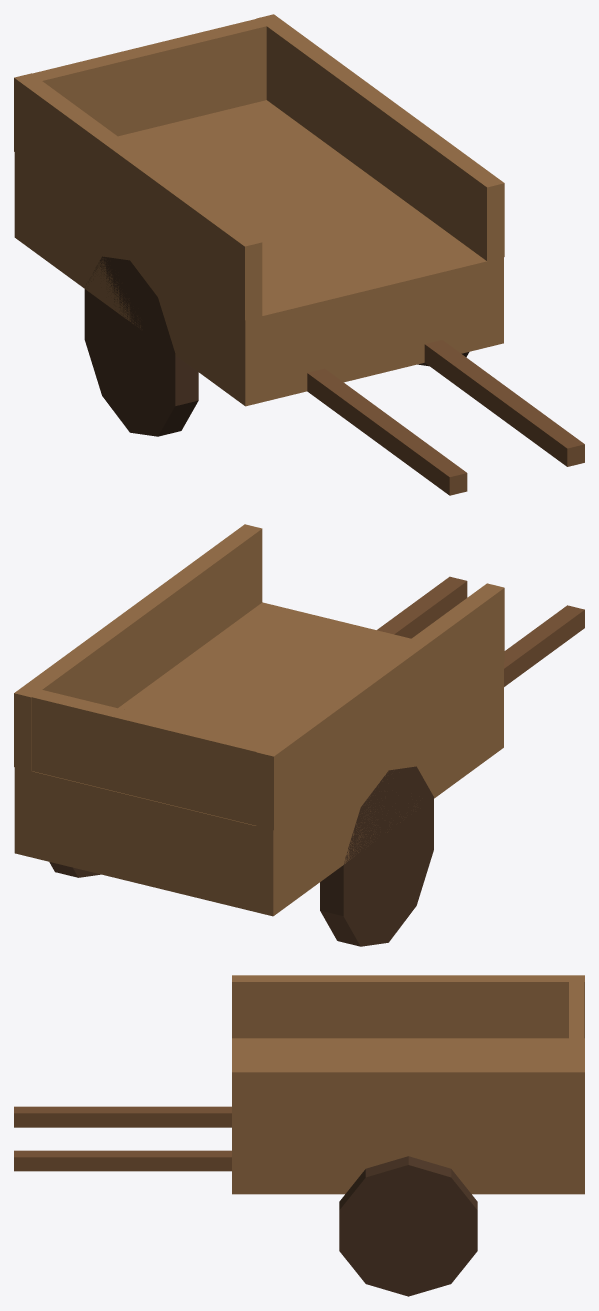
File: cart.glb
3 renders of one model, top to bottom at view 1: azimuth 30°, elevation 25°; view 2: azimuth 150°, elevation 25°; view 3: azimuth 270°, elevation 25°, orthographic. The views are drawn at different scales.
Parts seen in each view (by area): view 1: cart; view 2: cart; view 3: cart.
Part boxes in pixels (bbox=[...]): cart: bbox=[14, 14, 584, 495]; cart: bbox=[14, 524, 584, 946]; cart: bbox=[14, 975, 584, 1296].
Size of the model in its own units: 2.61 by 2.2 by 5.5.
